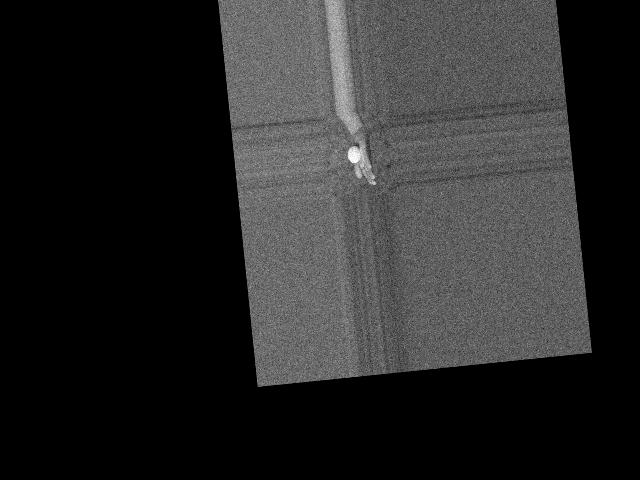egg: (346, 144, 361, 163)
